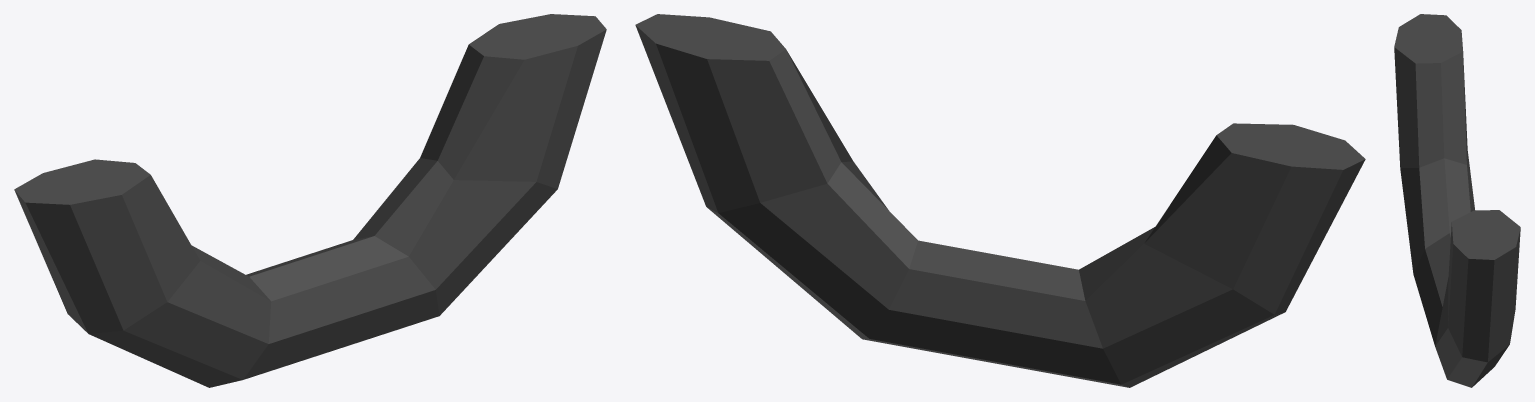
Rendered from moon.fbx.
3 renders of one model, left to right at view 1: azimuth 30°, elevation 25°; view 2: azimuth 150°, elevation 25°; view 3: azimuth 270°, elevation 25°, orthographic. The views are drawn at different scales.
Parts seen in each view (by area): view 1: ChainTopD; view 2: ChainTopD; view 3: ChainTopD.
Boxes of the visible parts, x1,y1,x2,y2 form: ChainTopD: (14, 14, 606, 387); ChainTopD: (635, 14, 1365, 387); ChainTopD: (1394, 14, 1520, 387).
Size of the model in its own units: 58.96 by 22.78 by 12.66.
